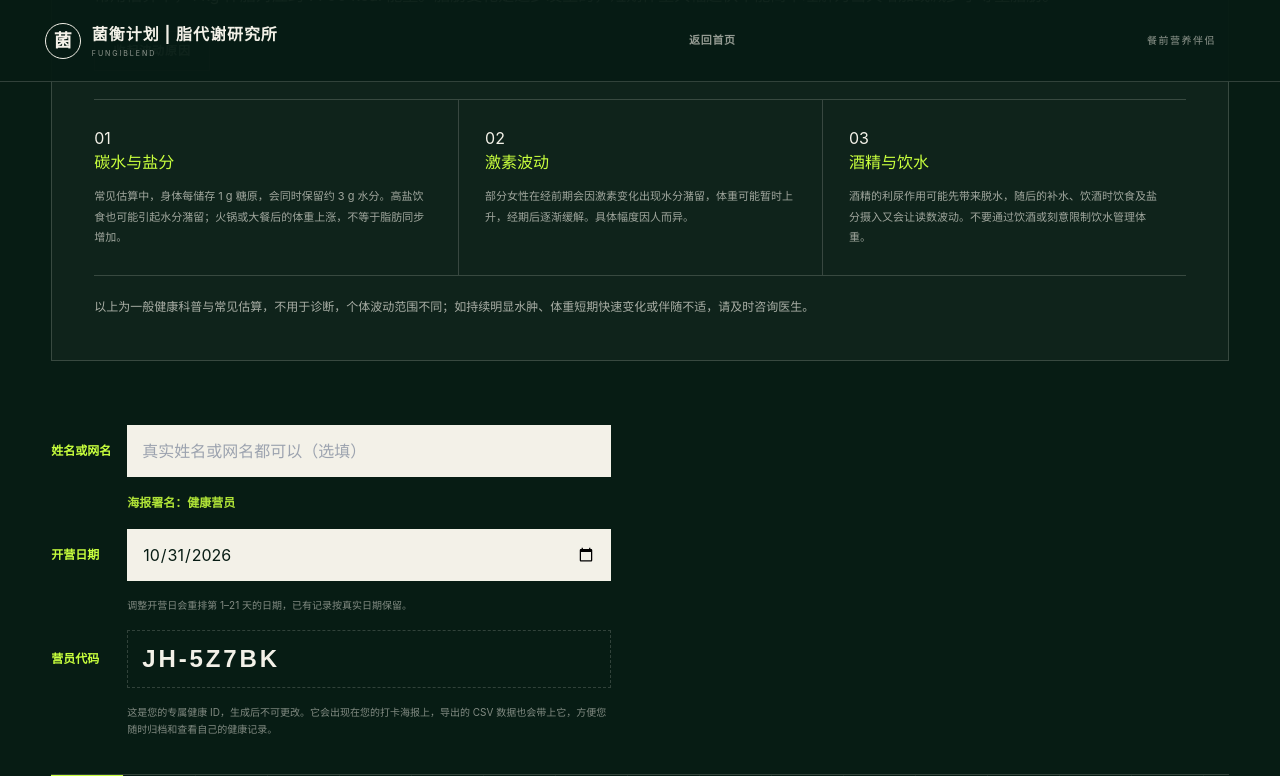
Test case: v1.4 science, plate and personal records › clears the saved name together with local check-in records
(page scrolled)
Type "小菌" into the field labelled "姓名或网名" at (369, 451), box [127,425,611,477]
(page scrolled)
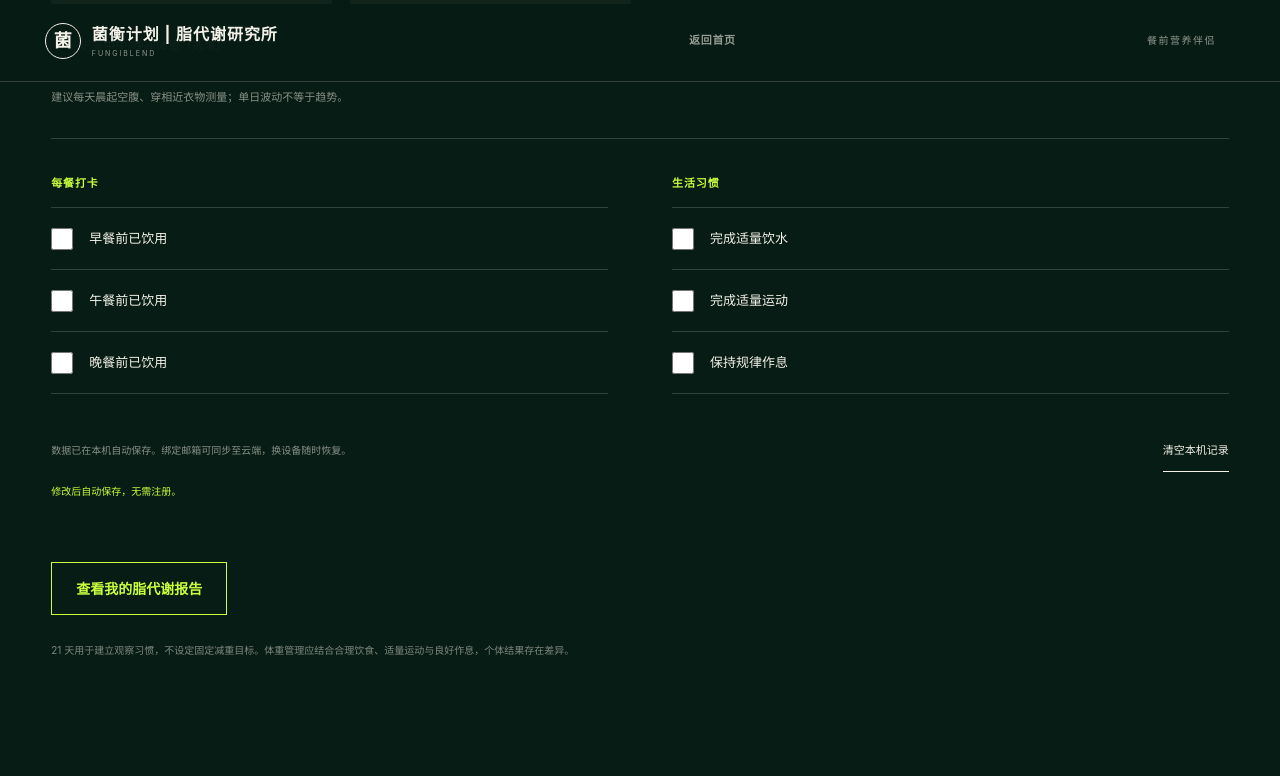
Click the button "清空本机记录" at (1196, 450), box [1163,428,1229,472]
(page scrolled)
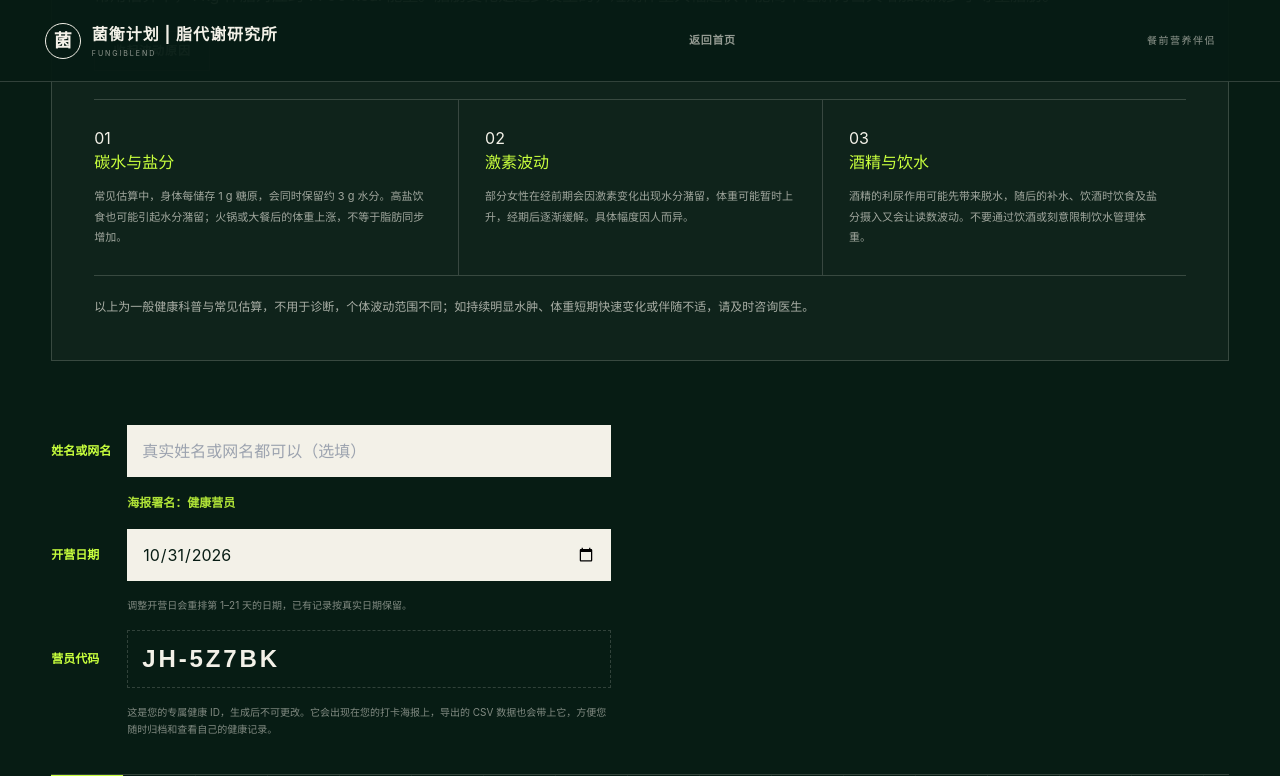
expect the field labelled "姓名或网名" is empty: met, box [127,425,611,477]
